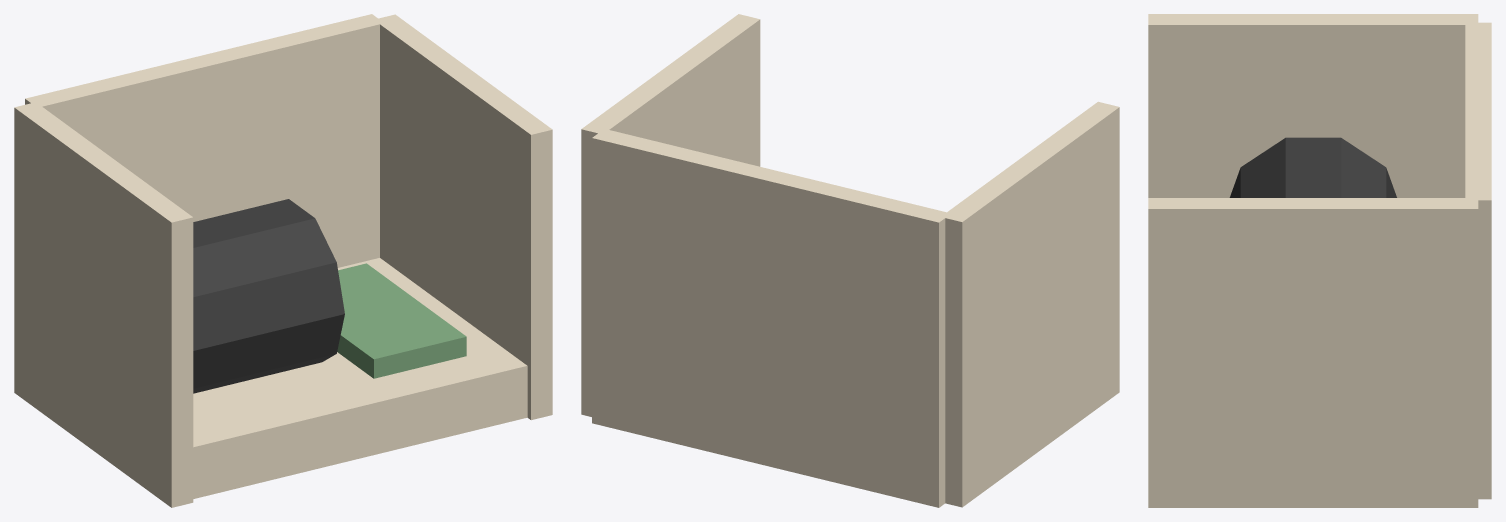
3 renders of one model, left to right at view 1: azimuth 30°, elevation 25°; view 2: azimuth 150°, elevation 25°; view 3: azimuth 270°, elevation 25°, orthographic. The views are drawn at different scales.
Visible parts, largest first — view 1: Side, Back, Side.001, Base, Motor, Circuit board; view 2: Back, Side, Side.001; view 3: Side.001, Side, Back, Motor.
Boxes of the visible parts, x1,y1,x2,y2 form: Side: [14, 103, 193, 507]; Back: [25, 14, 384, 267]; Side.001: [374, 14, 552, 420]; Base: [193, 258, 527, 498]; Motor: [193, 199, 344, 393]; Circuit board: [337, 263, 466, 378]; Back: [592, 129, 951, 507]; Side: [942, 101, 1119, 507]; Side.001: [581, 14, 760, 416]; Side.001: [1148, 198, 1478, 507]; Side: [1148, 14, 1478, 197]; Back: [1465, 22, 1491, 499]; Motor: [1229, 137, 1396, 197].
Bounding box in the file's own units: 0.615 × 0.44 × 0.4575.
Materials: 1 (1 with a texture image).
